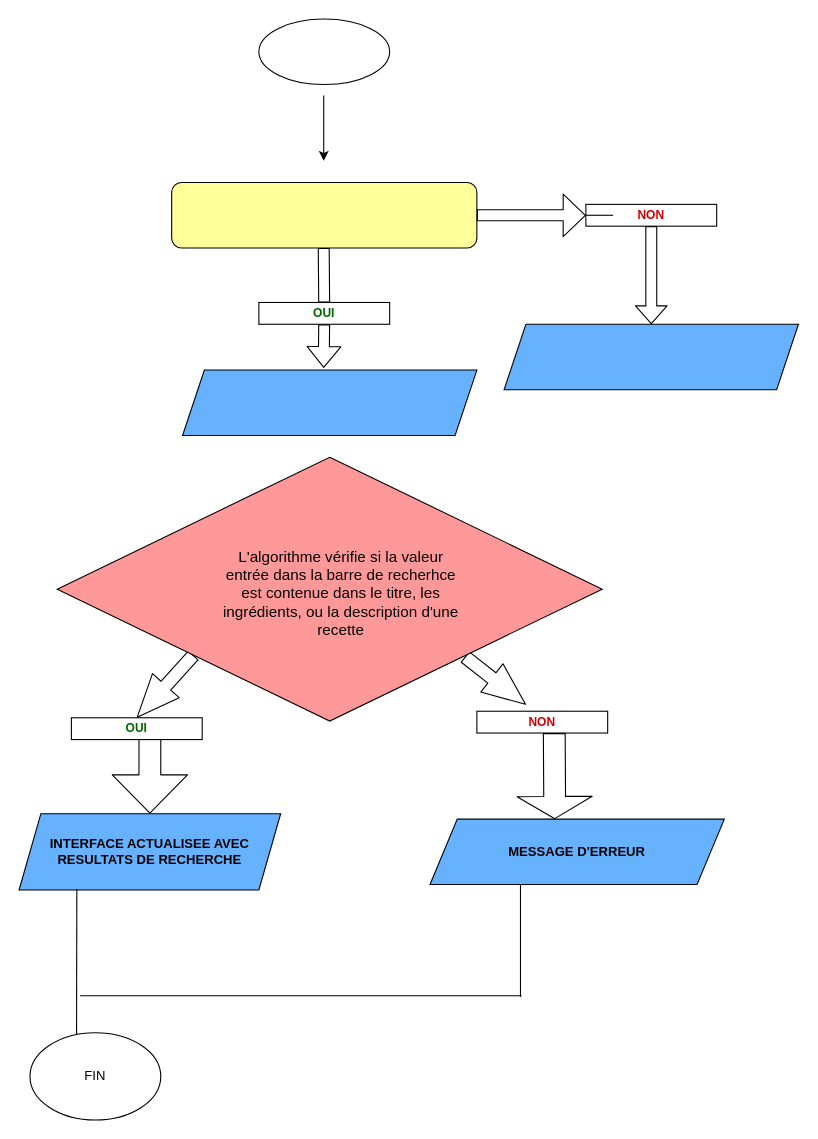
This 818x1139 diagram has some shape labels left out. The shapes that lost their labels are listed below. From the top down, each one's box as (x1, y1, x2, y2) in pixels, then its label:
(258, 18, 390, 84): DEBUT
(171, 181, 477, 248): Question: est- que 3 lettres sont saisies dans le champs de recherche?
(503, 323, 798, 390): RIEN NE SE PASSE
(181, 369, 477, 435): Verification de la valeur entrée dans le champs de recherche
